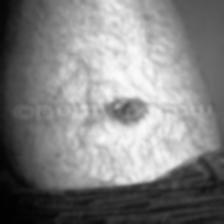Potentially Malignant Skin Tumors: (113, 115, 144, 125)
